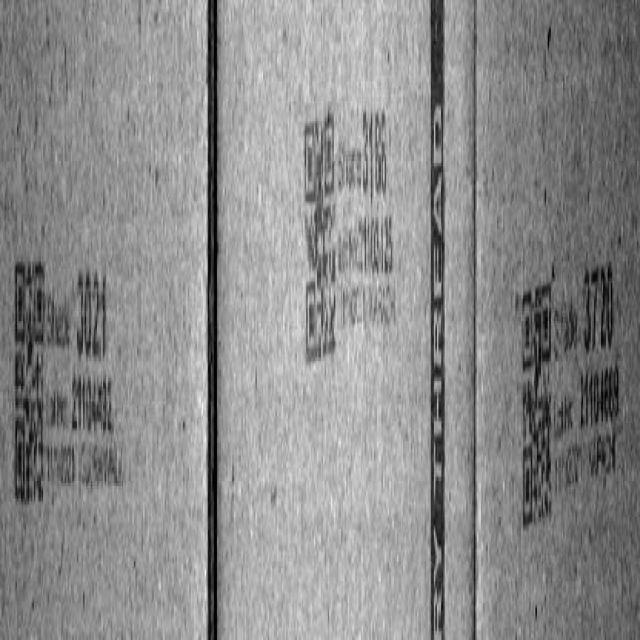cardboxes: (216, 0, 473, 637), (2, 6, 210, 637), (480, 6, 640, 637)
